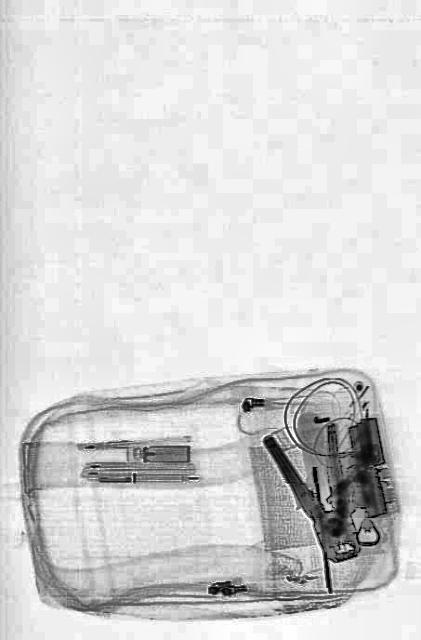Pliers: (260, 396, 372, 584)
